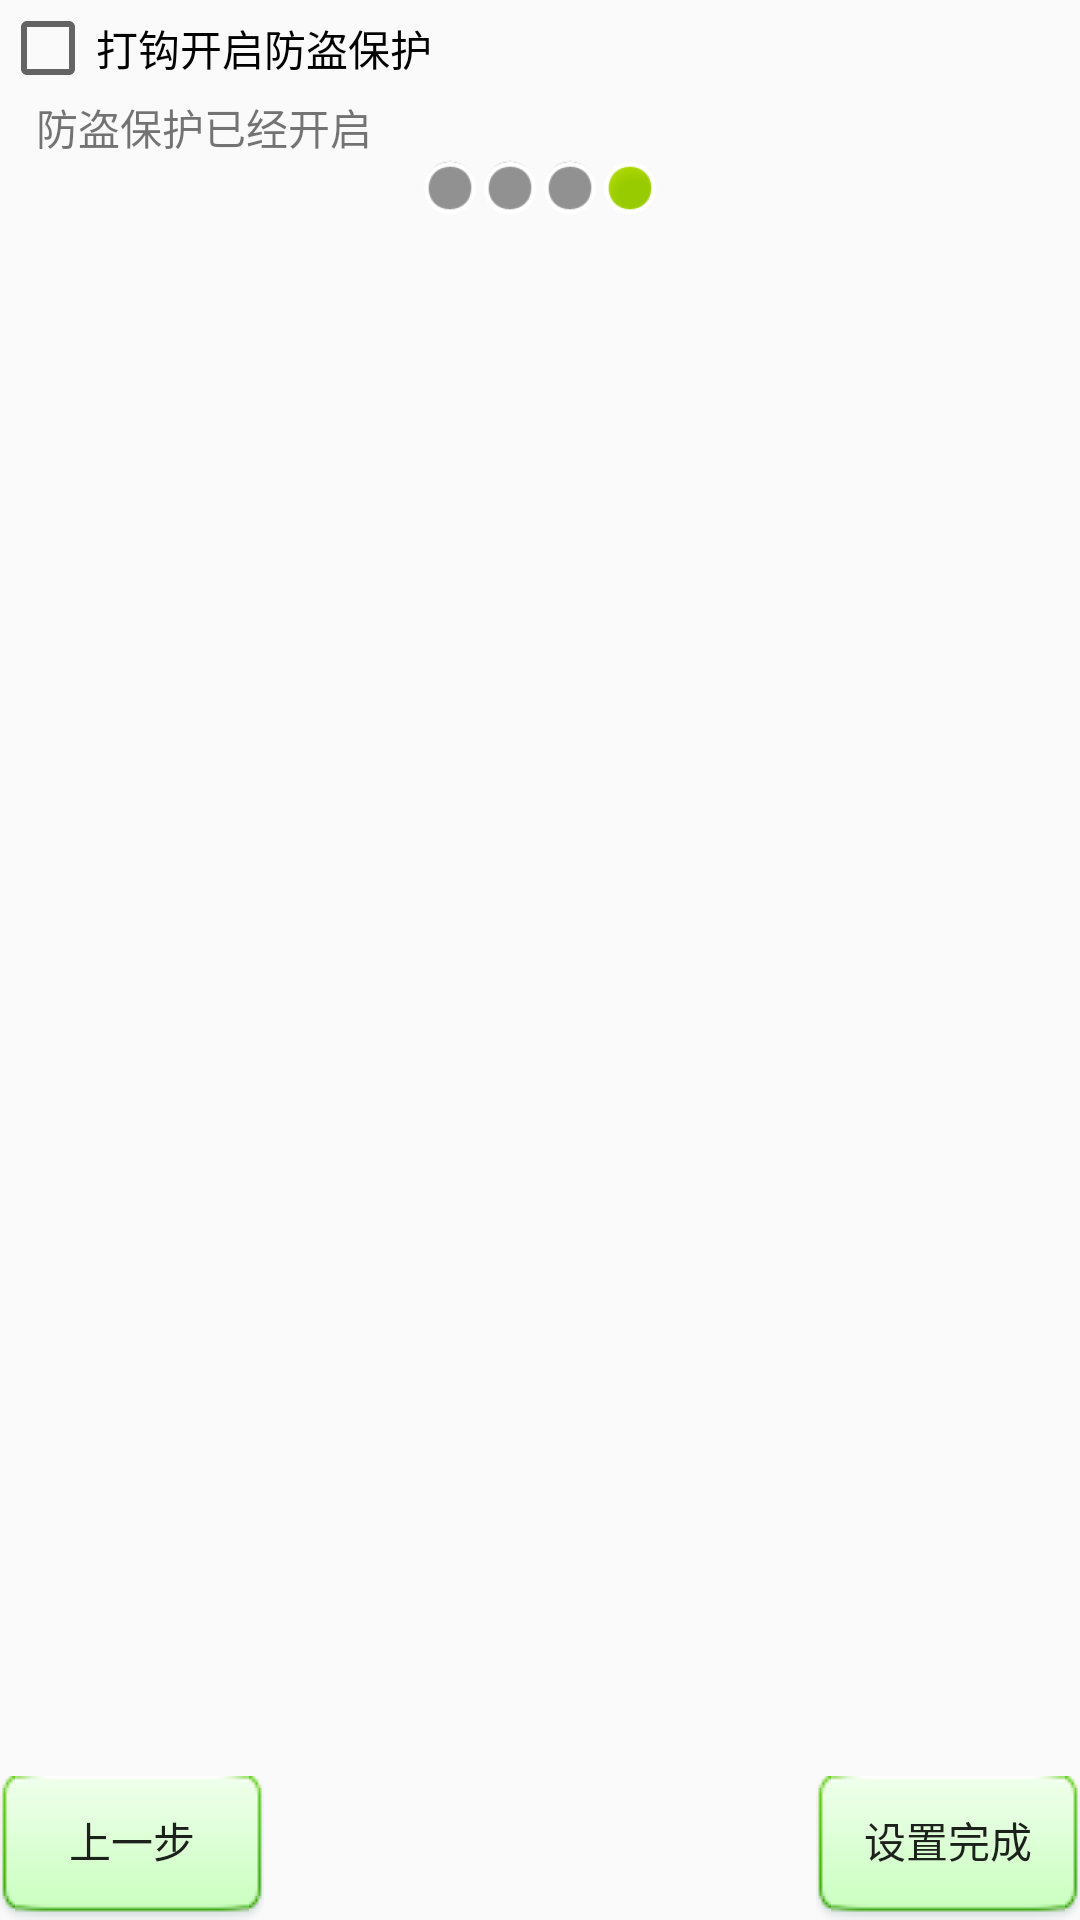

Screen size 1080px x 1920px. Icon name, then its box in pixels as (x1, y1, x2, y2):
presence invisible: (428, 162, 472, 210), (488, 162, 532, 210), (548, 162, 592, 210)
presence online: (608, 166, 652, 210)
